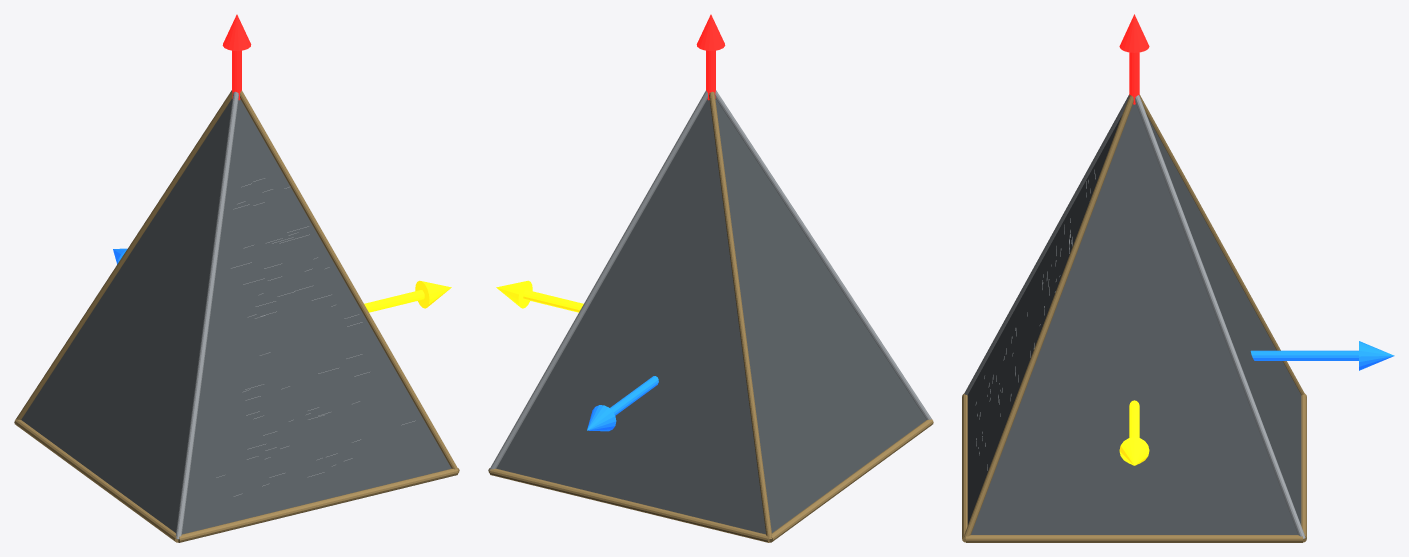
Rendered from orientation.glb.
3 views of the same model, side by side, from view 1: azimuth 30°, elevation 25°; view 2: azimuth 150°, elevation 25°; view 3: azimuth 270°, elevation 25° (orthographic). The views are drawn at different scales.
Visible parts, largest first — view 1: MetalPyramid, Metal ridge 0, Metal ridge 1, Brass base trim 0, Metal ridge 3, Brass base trim 3, X_Yellow shaft, Z_Red tip, X_Yellow tip; view 2: MetalPyramid, Metal ridge 3, Metal ridge 2, Brass base trim 2, Metal ridge 0, Brass base trim 3, X_Yellow shaft, Y_Blue tip, Z_Red tip, Y_Blue shaft, X_Yellow tip; view 3: MetalPyramid, Metal ridge 1, Metal ridge 2, Brass base trim 1, Metal ridge 0, Metal ridge 3, Y_Blue shaft, Brass base trim 0, Brass base trim 2, Z_Red tip, X_Yellow tip, Y_Blue tip.
Part boxes in pixels (bbox=[...]): MetalPyramid: bbox=[21, 99, 451, 534]; Metal ridge 0: bbox=[175, 91, 238, 539]; Metal ridge 1: bbox=[240, 90, 458, 470]; Brass base trim 0: bbox=[178, 468, 458, 542]; Metal ridge 3: bbox=[15, 90, 232, 419]; Brass base trim 3: bbox=[14, 419, 178, 542]; X_Yellow shaft: bbox=[364, 290, 424, 312]; Z_Red tip: bbox=[222, 14, 251, 50]; X_Yellow tip: bbox=[415, 280, 451, 308]; MetalPyramid: bbox=[496, 99, 926, 534]; Metal ridge 3: bbox=[709, 91, 772, 539]; Metal ridge 2: bbox=[489, 90, 707, 470]; Brass base trim 2: bbox=[489, 468, 769, 542]; Metal ridge 0: bbox=[715, 90, 932, 419]; Brass base trim 3: bbox=[769, 419, 933, 542]; X_Yellow shaft: bbox=[523, 290, 583, 312]; Y_Blue tip: bbox=[587, 405, 616, 431]; Z_Red tip: bbox=[696, 14, 725, 50]; Y_Blue shaft: bbox=[610, 376, 658, 415]; X_Yellow tip: bbox=[496, 280, 532, 308]; MetalPyramid: bbox=[967, 104, 1301, 534]; Metal ridge 1: bbox=[963, 95, 1133, 538]; Metal ridge 2: bbox=[1135, 95, 1305, 538]; Brass base trim 1: bbox=[966, 535, 1302, 542]; Metal ridge 0: bbox=[964, 94, 1129, 395]; Metal ridge 3: bbox=[1139, 95, 1304, 395]; Y_Blue shaft: bbox=[1250, 350, 1358, 360]; Brass base trim 0: bbox=[962, 393, 967, 542]; Brass base trim 2: bbox=[1301, 393, 1306, 542]; Z_Red tip: bbox=[1119, 14, 1149, 52]; X_Yellow tip: bbox=[1119, 437, 1149, 465]; Y_Blue tip: bbox=[1359, 341, 1394, 370].
Bounding box in the file's own units: 1.93 × 2.25 × 1.93.
